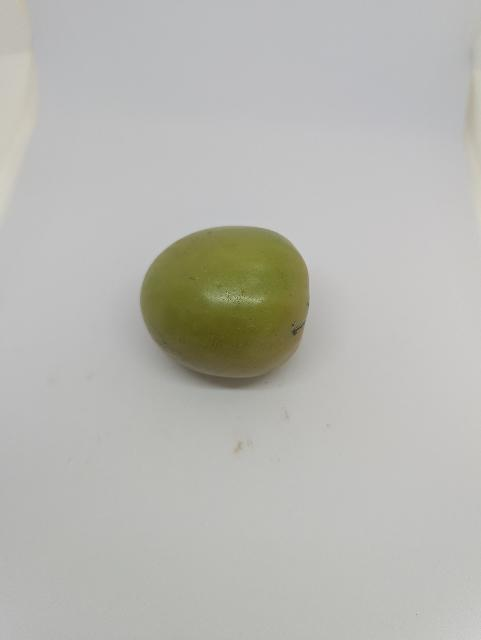green: (129, 220, 320, 391)
